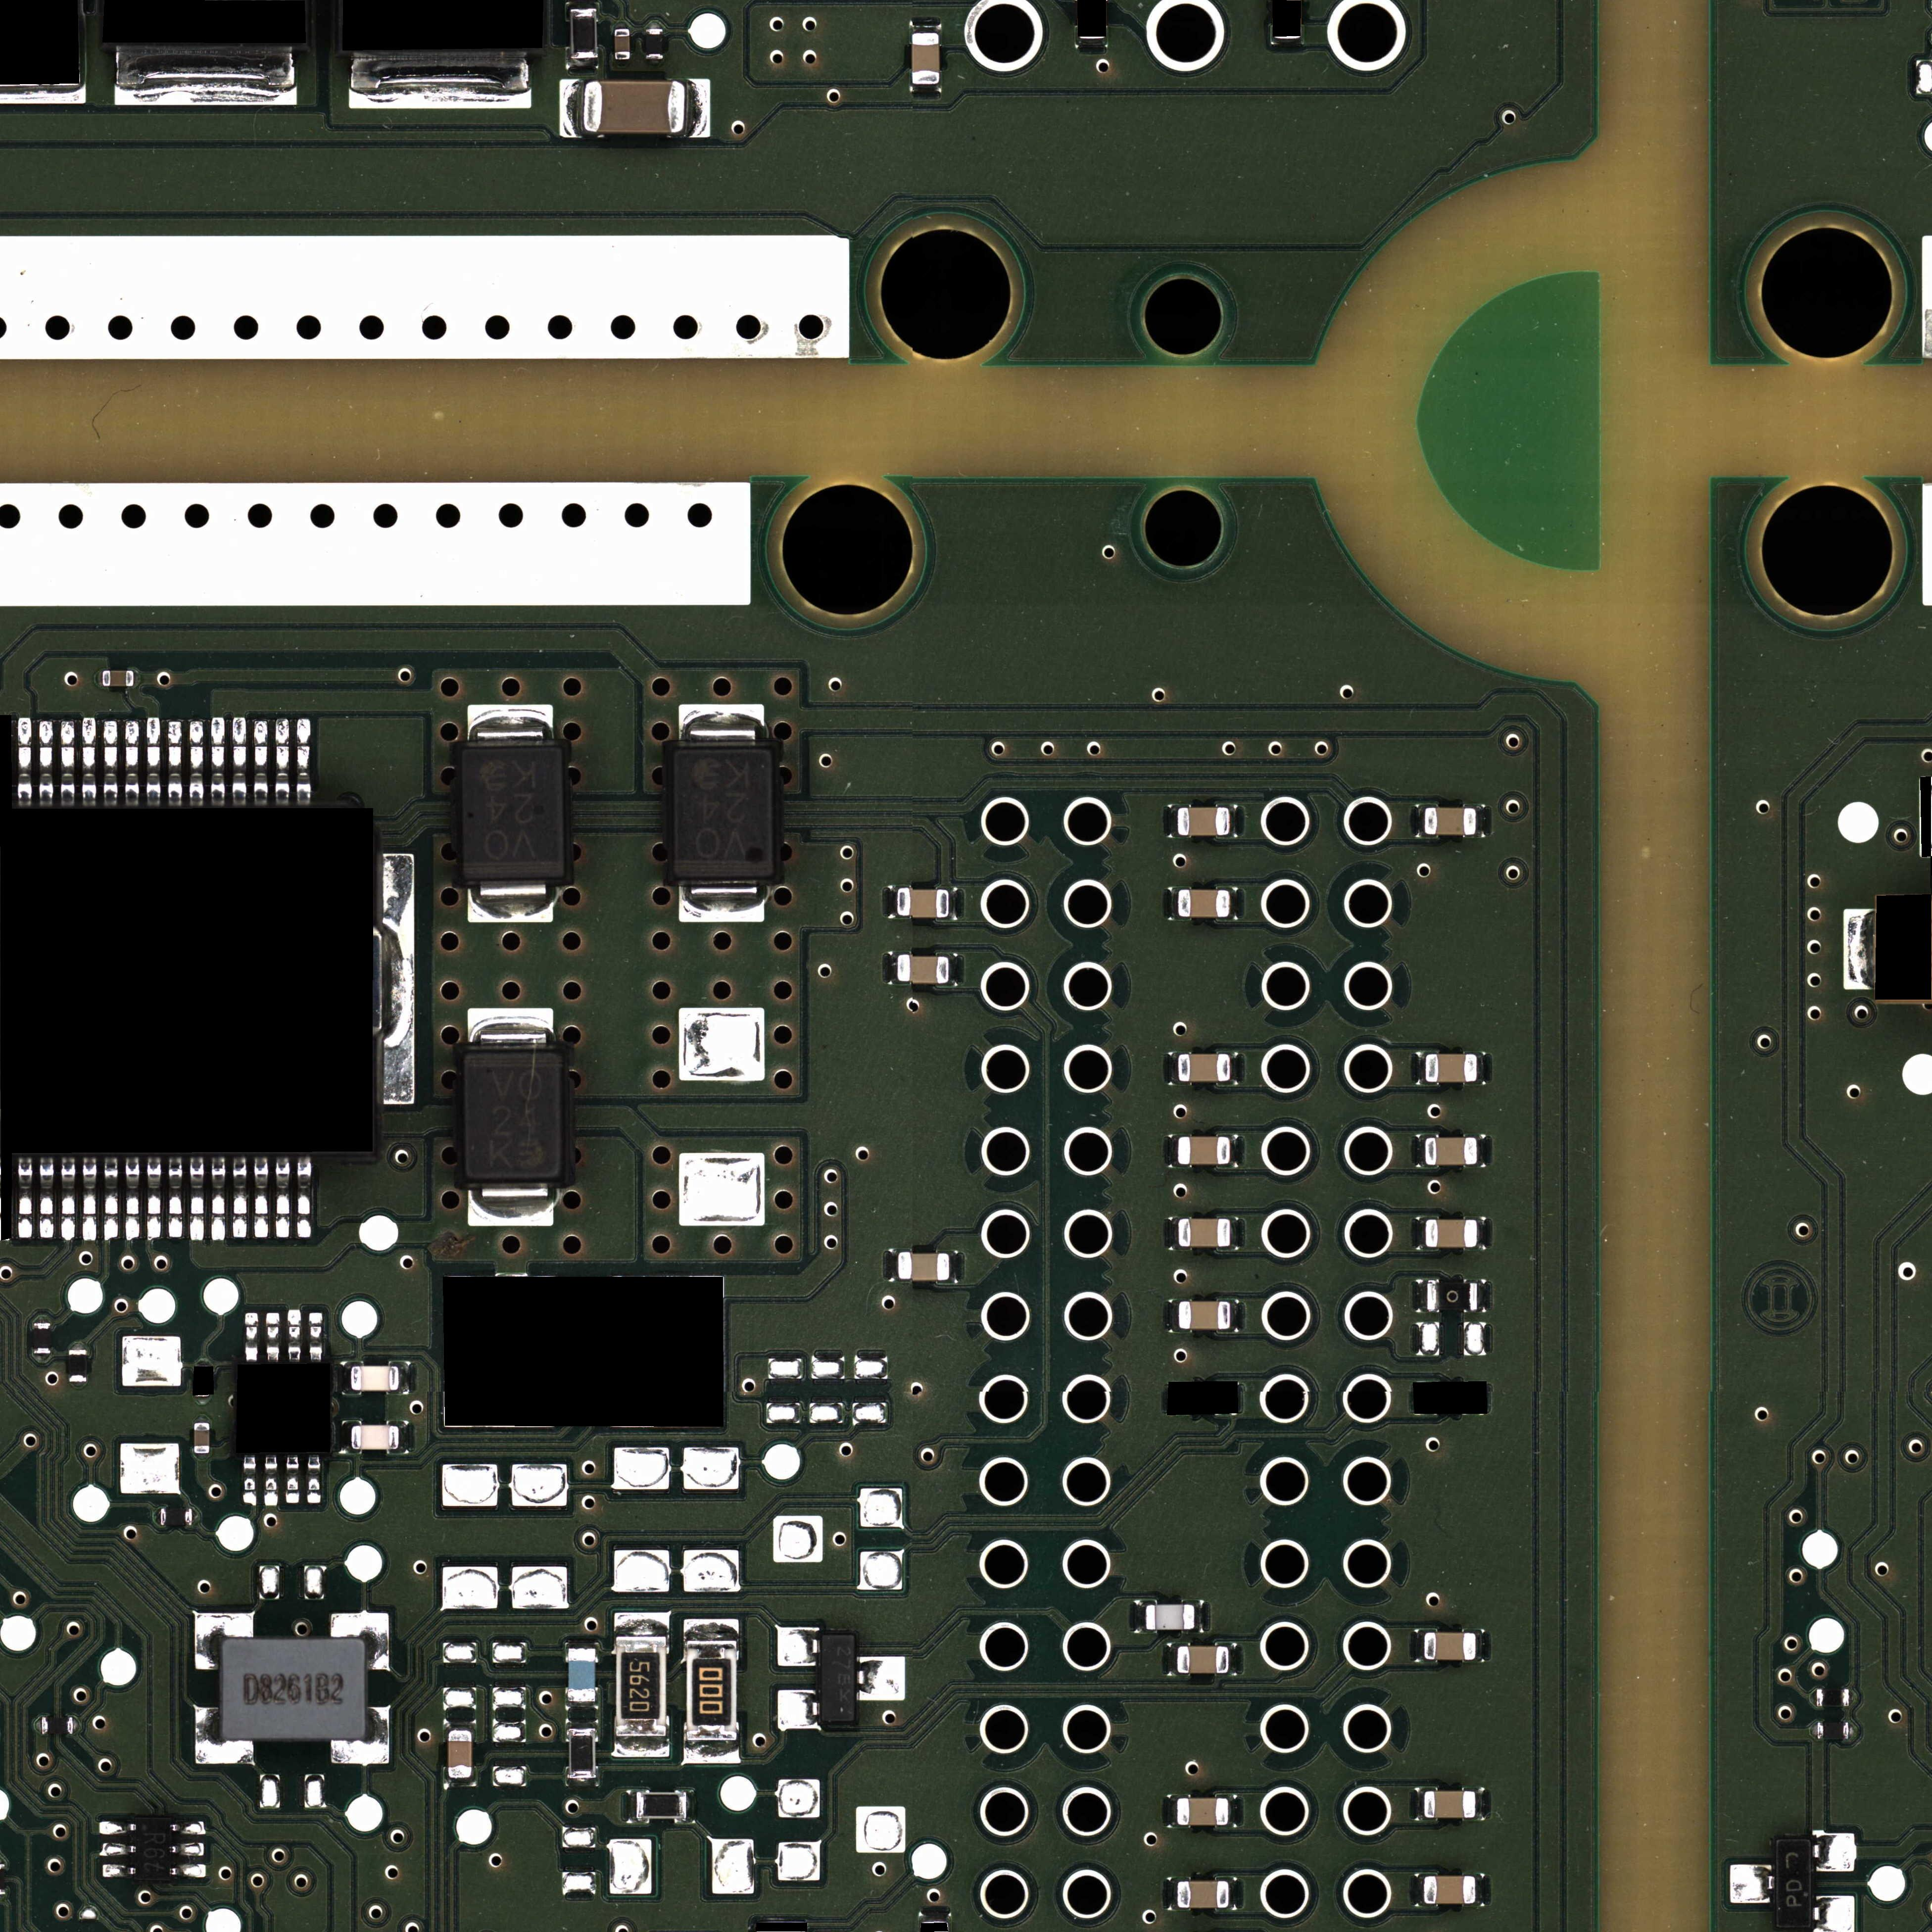Package: (219, 1639, 367, 1741), (461, 748, 565, 878), (674, 749, 774, 878), (463, 1052, 561, 1179), (583, 81, 685, 133), (615, 1638, 667, 1736), (686, 1642, 737, 1740), (1776, 1839, 1810, 1927), (821, 1635, 855, 1722), (136, 1818, 170, 1879), (897, 889, 949, 918), (1177, 1136, 1230, 1165), (1178, 1218, 1230, 1247), (1423, 1876, 1476, 1904), (897, 956, 949, 984), (898, 1253, 950, 1281), (1177, 807, 1229, 836), (1178, 1301, 1230, 1330), (1427, 1282, 1478, 1311), (1425, 1137, 1477, 1165), (1425, 1054, 1477, 1082), (568, 1649, 595, 1702), (1424, 807, 1476, 835), (1178, 889, 1230, 918), (1425, 1219, 1477, 1248), (1424, 1632, 1476, 1660), (1178, 1054, 1230, 1082), (1176, 1798, 1229, 1826), (1177, 1646, 1229, 1674), (1177, 1881, 1229, 1908), (912, 33, 939, 84), (1424, 1790, 1475, 1818), (569, 1729, 595, 1779), (636, 1793, 686, 1819), (1146, 1604, 1195, 1631), (571, 9, 596, 58), (351, 1366, 399, 1391), (448, 1730, 472, 1778), (351, 1425, 398, 1449), (68, 1350, 87, 1382), (1816, 1689, 1849, 1707), (33, 1323, 51, 1353), (1817, 1722, 1849, 1739), (161, 1508, 192, 1526), (42, 1717, 73, 1734), (646, 29, 663, 59), (102, 670, 134, 686), (615, 29, 630, 59), (194, 1423, 209, 1453)
Solder: (114, 52, 297, 105), (348, 59, 531, 108), (383, 853, 414, 1105), (468, 1179, 554, 1226), (467, 1008, 553, 1053), (467, 879, 554, 923), (468, 704, 554, 748), (679, 878, 765, 922), (679, 704, 764, 749), (331, 1613, 389, 1670), (194, 1613, 253, 1670), (331, 1707, 389, 1764), (195, 1707, 253, 1764), (1844, 909, 1874, 989), (857, 1656, 905, 1700), (1730, 1864, 1774, 1904), (1812, 1833, 1855, 1872), (208, 716, 227, 806), (145, 715, 163, 805), (15, 715, 34, 805), (777, 1627, 821, 1666), (80, 715, 98, 805), (778, 1690, 821, 1729), (294, 717, 313, 805), (167, 718, 185, 806), (37, 718, 55, 806), (231, 715, 248, 804), (188, 717, 206, 806), (123, 717, 141, 806), (123, 1157, 142, 1243), (59, 1157, 78, 1243), (274, 717, 291, 805), (252, 717, 270, 805), (102, 718, 120, 806), (58, 718, 76, 806), (188, 1156, 206, 1242), (145, 1156, 163, 1242), (16, 1157, 34, 1242), (210, 1156, 228, 1241), (1812, 1896, 1854, 1932), (81, 1157, 98, 1242), (295, 1157, 313, 1239), (38, 1157, 55, 1241), (686, 78, 710, 138), (167, 1156, 184, 1240), (274, 1156, 291, 1239), (252, 1156, 270, 1239), (231, 1156, 248, 1239), (102, 1157, 119, 1241), (560, 79, 582, 138), (614, 1613, 670, 1636), (683, 1741, 740, 1764), (683, 1619, 739, 1641), (614, 1737, 670, 1758), (286, 1309, 303, 1363), (243, 1310, 261, 1362), (264, 1310, 281, 1362), (307, 1310, 324, 1362), (285, 1455, 301, 1507), (241, 1455, 258, 1507), (263, 1455, 279, 1507), (306, 1455, 322, 1507), (98, 1821, 136, 1835), (100, 1843, 136, 1856), (170, 1864, 205, 1878), (170, 1821, 206, 1835), (170, 1843, 204, 1856), (102, 1864, 136, 1878), (340, 1421, 351, 1453), (1135, 1600, 1145, 1634), (627, 1790, 636, 1824), (399, 1362, 409, 1394), (566, 59, 599, 68), (1417, 1279, 1427, 1312), (399, 1421, 409, 1453), (443, 1720, 476, 1730), (1415, 1787, 1424, 1821), (443, 1779, 477, 1787), (1416, 1052, 1425, 1085), (910, 23, 941, 33), (949, 887, 958, 920), (566, 1719, 598, 1728), (1169, 1300, 1178, 1332), (1167, 1795, 1176, 1828), (687, 1789, 695, 1824), (1415, 1629, 1423, 1663), (1168, 1052, 1177, 1084), (1230, 1053, 1239, 1085), (1229, 1795, 1238, 1827), (565, 1779, 599, 1787), (1477, 805, 1485, 838), (1169, 805, 1177, 838), (1415, 804, 1424, 837), (1168, 1877, 1177, 1910), (1229, 1643, 1237, 1676), (1168, 1643, 1177, 1676), (1169, 1217, 1178, 1250), (1169, 1135, 1177, 1167), (1230, 1217, 1239, 1250), (1195, 1600, 1204, 1633), (889, 885, 897, 919), (889, 951, 897, 985), (889, 1249, 897, 1282), (1415, 1873, 1423, 1906), (1477, 1217, 1485, 1250), (566, 0, 599, 8), (1477, 1280, 1485, 1312), (910, 85, 942, 93), (949, 954, 957, 986), (1169, 888, 1177, 920), (1230, 1135, 1238, 1167), (1417, 1217, 1425, 1249), (1417, 1135, 1425, 1167), (1229, 1878, 1237, 1910), (1231, 1300, 1239, 1332), (1476, 1873, 1484, 1907), (1477, 1134, 1485, 1167), (1476, 1787, 1484, 1821), (1477, 1629, 1484, 1662), (950, 1251, 958, 1283), (566, 1702, 598, 1709), (1230, 887, 1238, 920), (1230, 805, 1237, 837), (1478, 1052, 1485, 1085), (1270, 39, 1304, 46), (566, 1642, 598, 1648), (1076, 39, 1108, 46), (345, 1362, 351, 1395), (33, 1315, 51, 1323), (95, 671, 102, 687), (1849, 1689, 1856, 1706), (1849, 1723, 1856, 1740), (69, 1343, 87, 1350), (33, 1354, 51, 1361), (192, 1508, 199, 1526), (35, 1717, 42, 1735), (1810, 1722, 1817, 1739), (68, 1382, 87, 1389), (614, 21, 630, 28), (73, 1717, 80, 1735), (154, 1508, 160, 1526), (134, 671, 141, 686), (194, 1415, 210, 1422), (646, 22, 663, 28), (646, 59, 663, 66), (1810, 1690, 1817, 1706), (193, 1453, 210, 1460), (614, 60, 630, 67), (193, 1397, 211, 1402), (196, 1360, 212, 1366)
